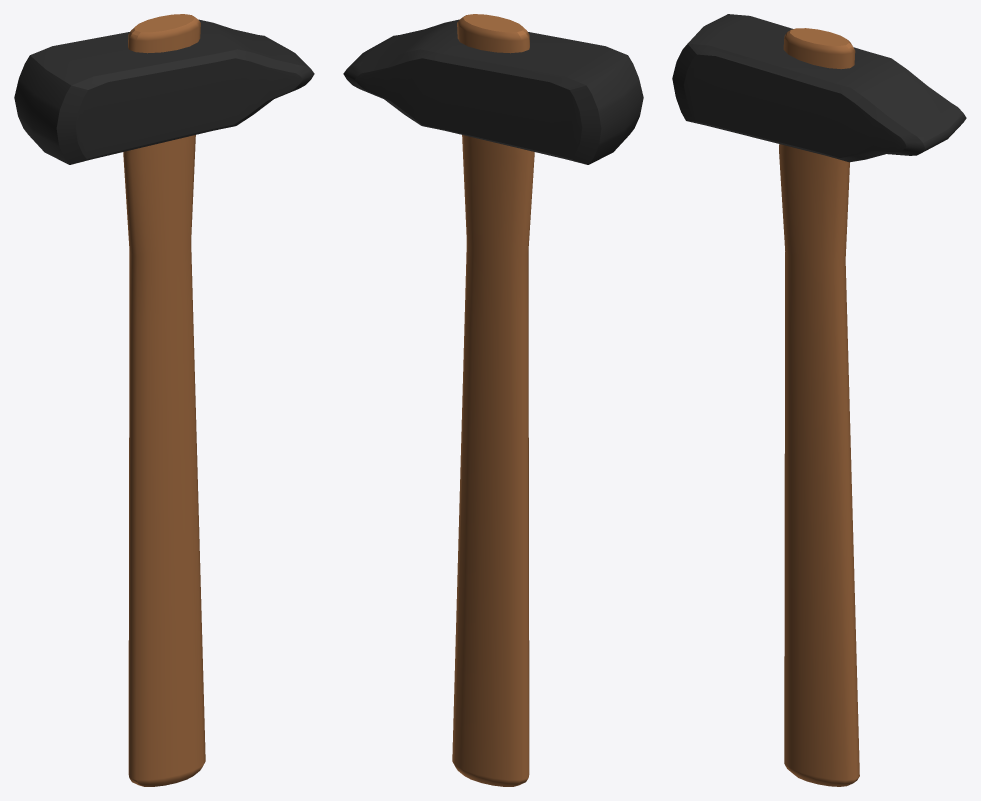
File: Hammer_Obj.obj
3 renders of one model, left to right at view 1: azimuth 30°, elevation 25°; view 2: azimuth 150°, elevation 25°; view 3: azimuth 330°, elevation 25°, orthographic. The views are drawn at different scales.
Visible parts, largest first — view 1: Hammer_Mesh; view 2: Hammer_Mesh; view 3: Hammer_Mesh.
Boxes of the visible parts, box(x1,y1,x2,y2) form: Hammer_Mesh: box(14, 14, 314, 786); Hammer_Mesh: box(343, 14, 643, 786); Hammer_Mesh: box(672, 14, 966, 786).
Size of the model in its own units: 14.47 by 39.03 by 4.67.
